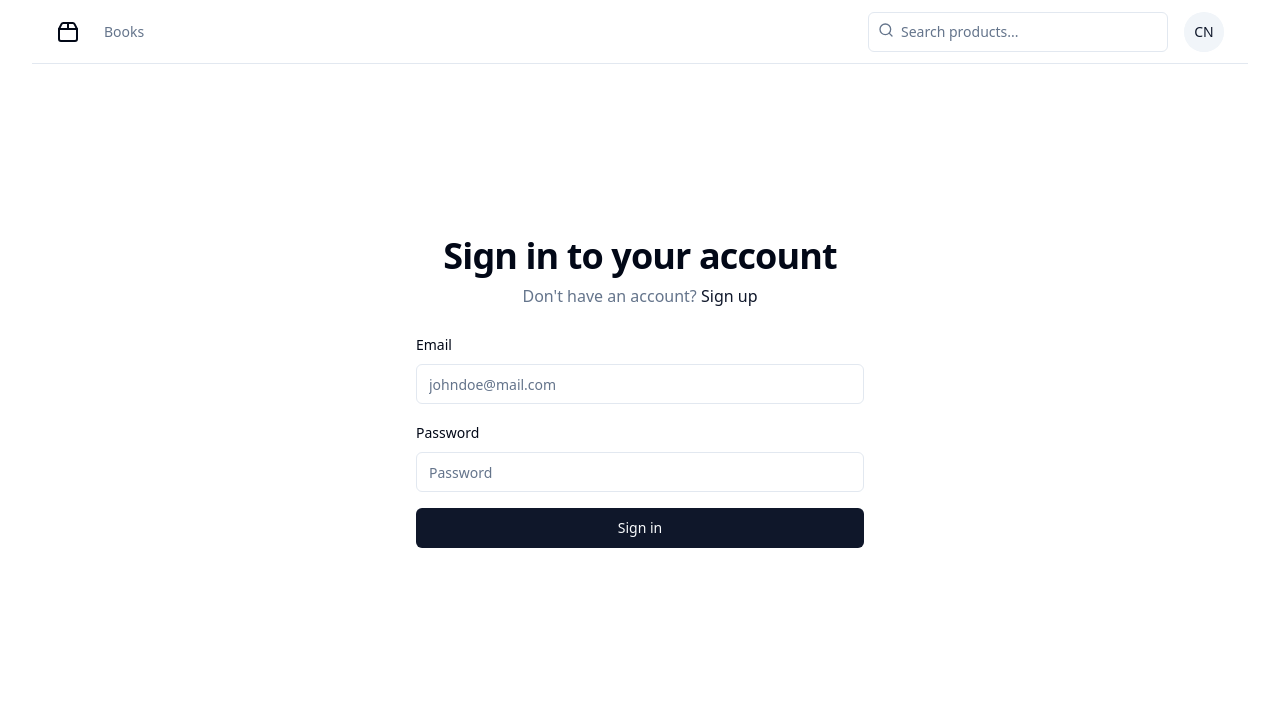
Scenario: Login Page › Action for Login page › should show error message when some of input is missing a value
This screenshot has width=1280, height=720.
Click the button with test id "btn-submit" at (640, 528), box [416,508,864,548]
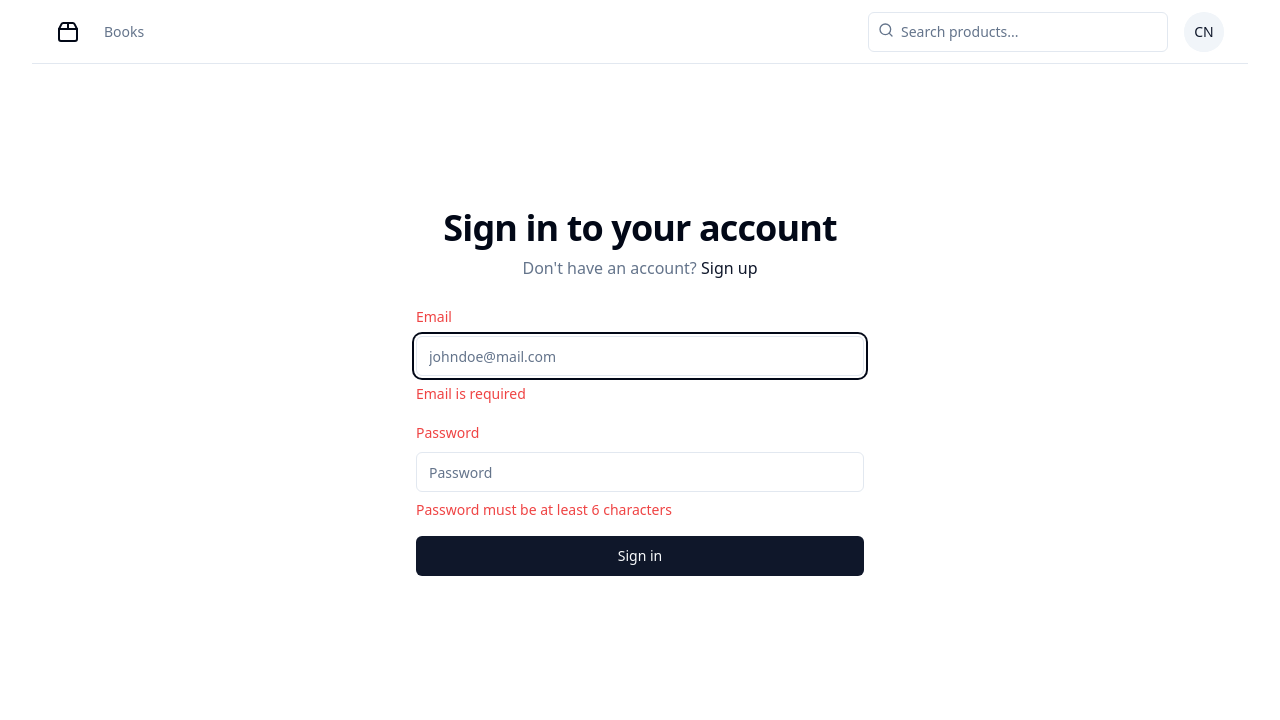
Expected: the text "Email is required" is shown, [416,384,526,403]
Expected: the text "Password must be at least 6 characters" is shown, [416,500,672,519]
